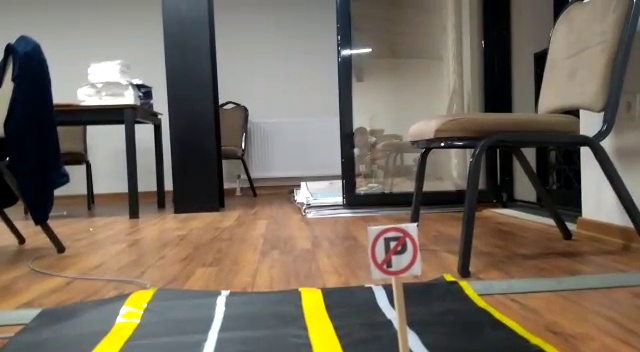park_yapilmaz: (369, 225, 420, 276)
